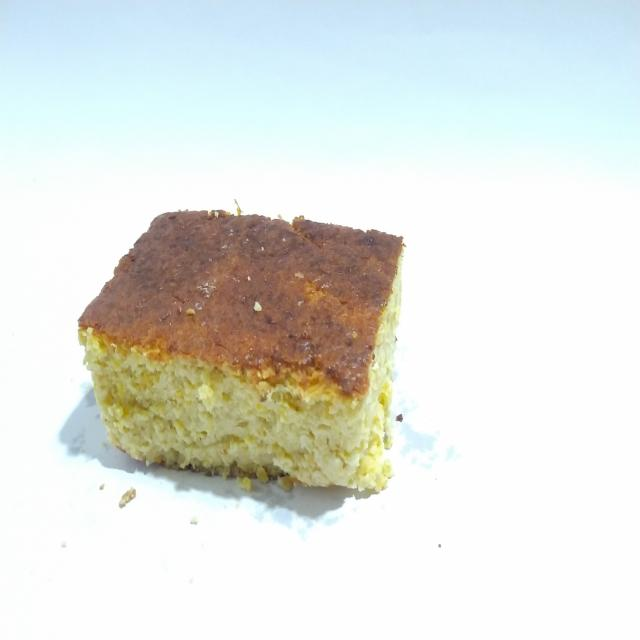Chipa_Guazu: (79, 209, 418, 499)
